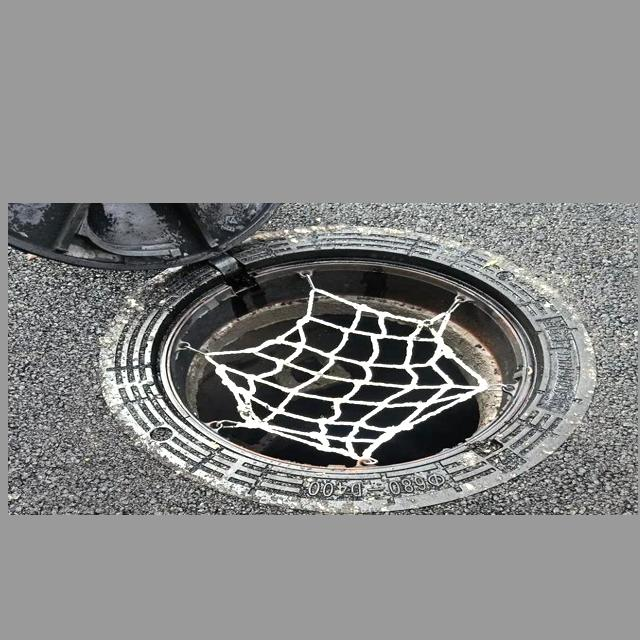lose: (98, 226, 596, 505)
